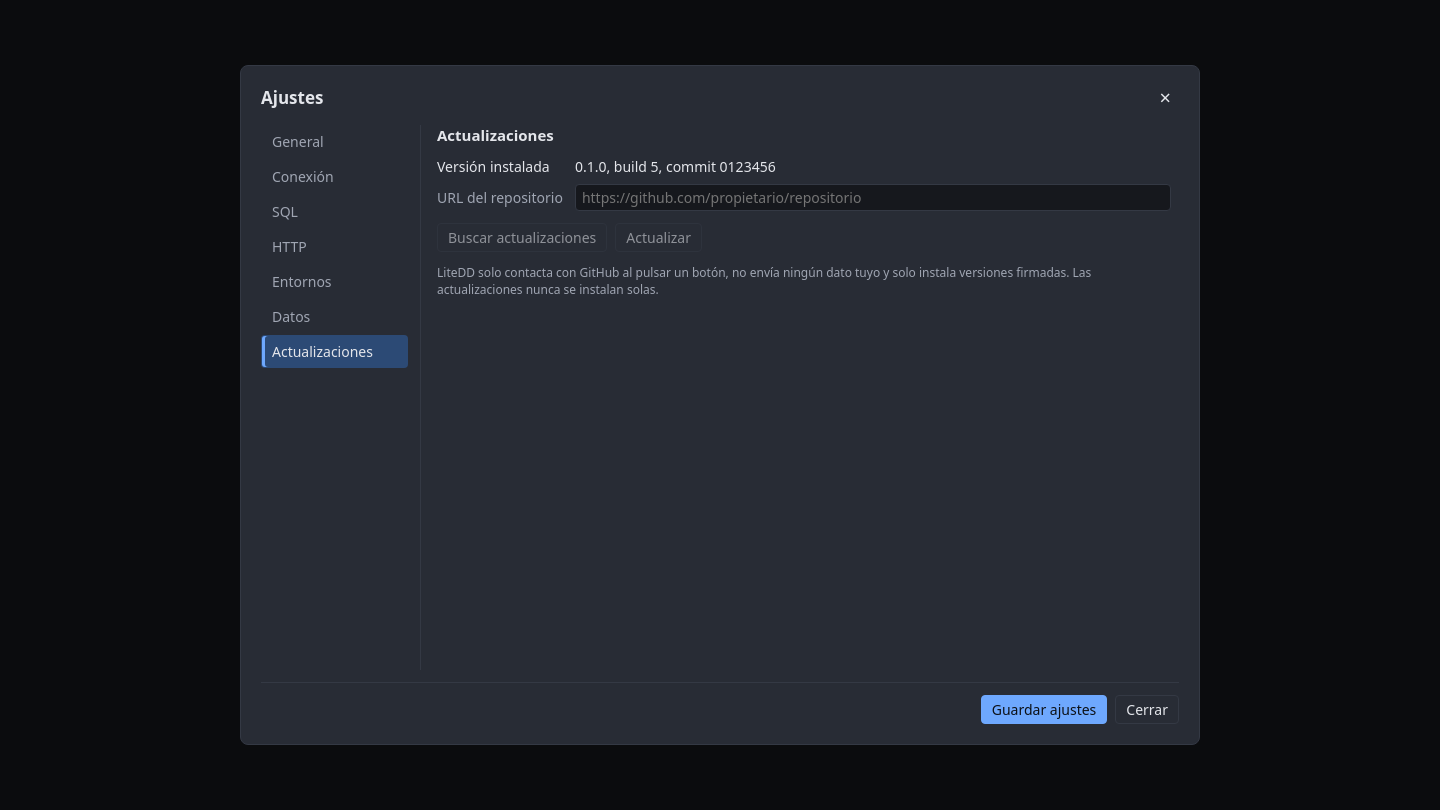
Test case: R-11 URL del repositorio › R-11 una URL escrita y sin guardar todavía no vale
Type "https://github.com/demo/app" into the field labelled "URL del repositorio" at [873, 198], box [575,184,1171,211]
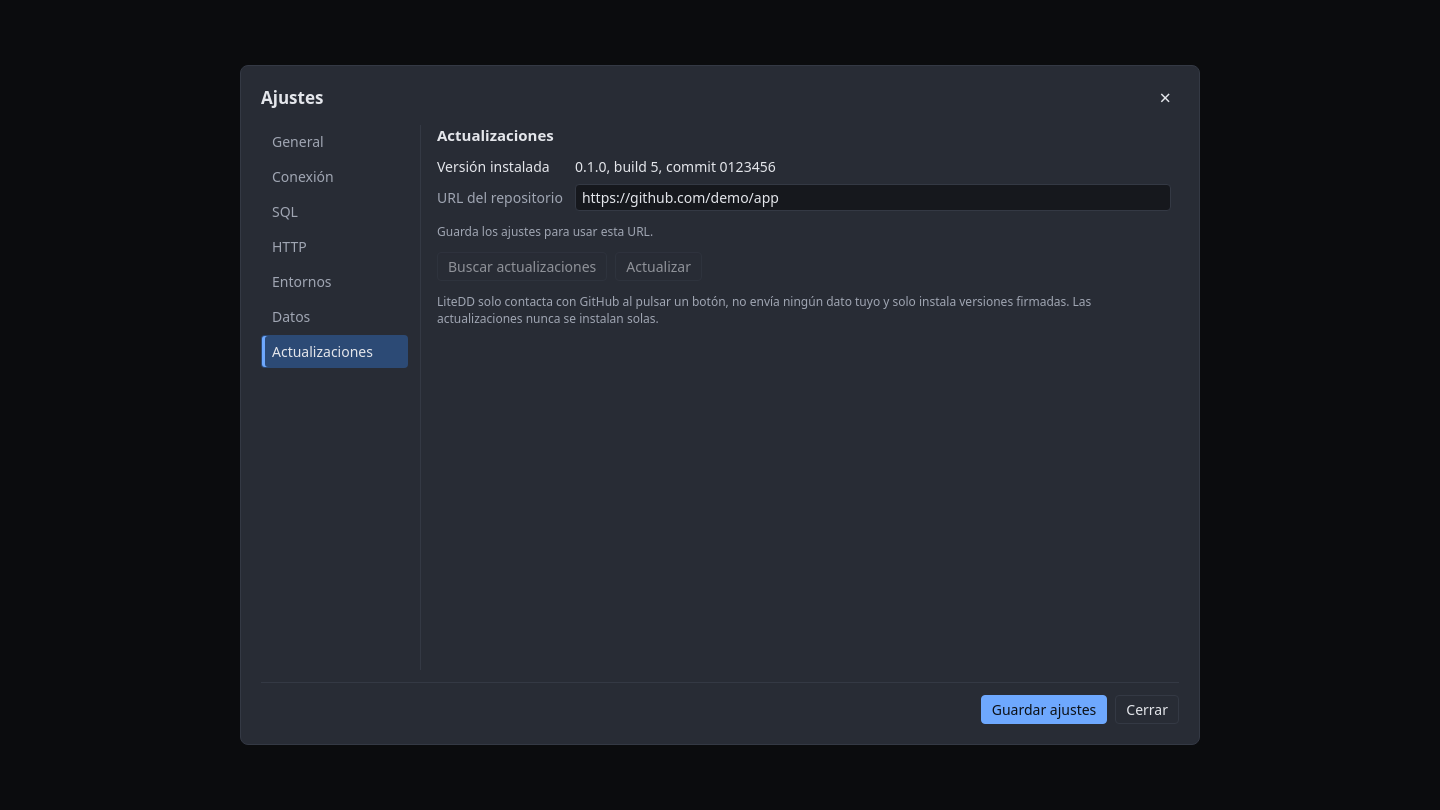
Expected: the button "Buscar actualizaciones" is disabled, [437,252,607,281]
Result: the text "Guarda los ajustes para usar esta URL." is shown at [437,223,653,240]
